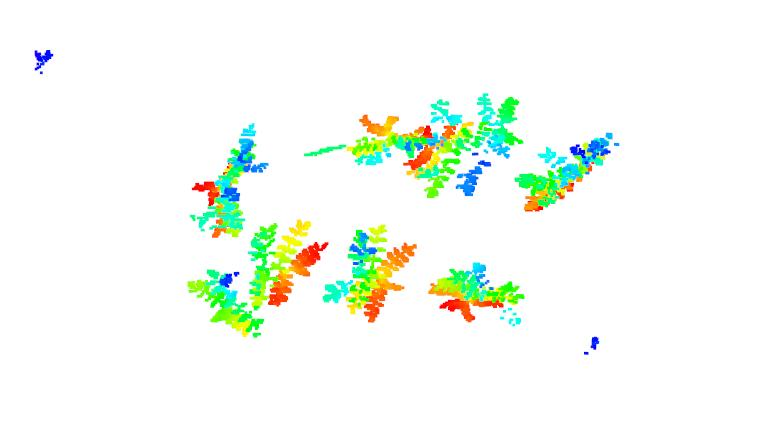chickpea: (420, 88, 522, 201), (189, 118, 269, 237), (326, 222, 420, 323), (514, 130, 623, 216), (243, 219, 329, 312), (427, 260, 527, 330), (185, 266, 265, 340), (342, 112, 436, 167)
